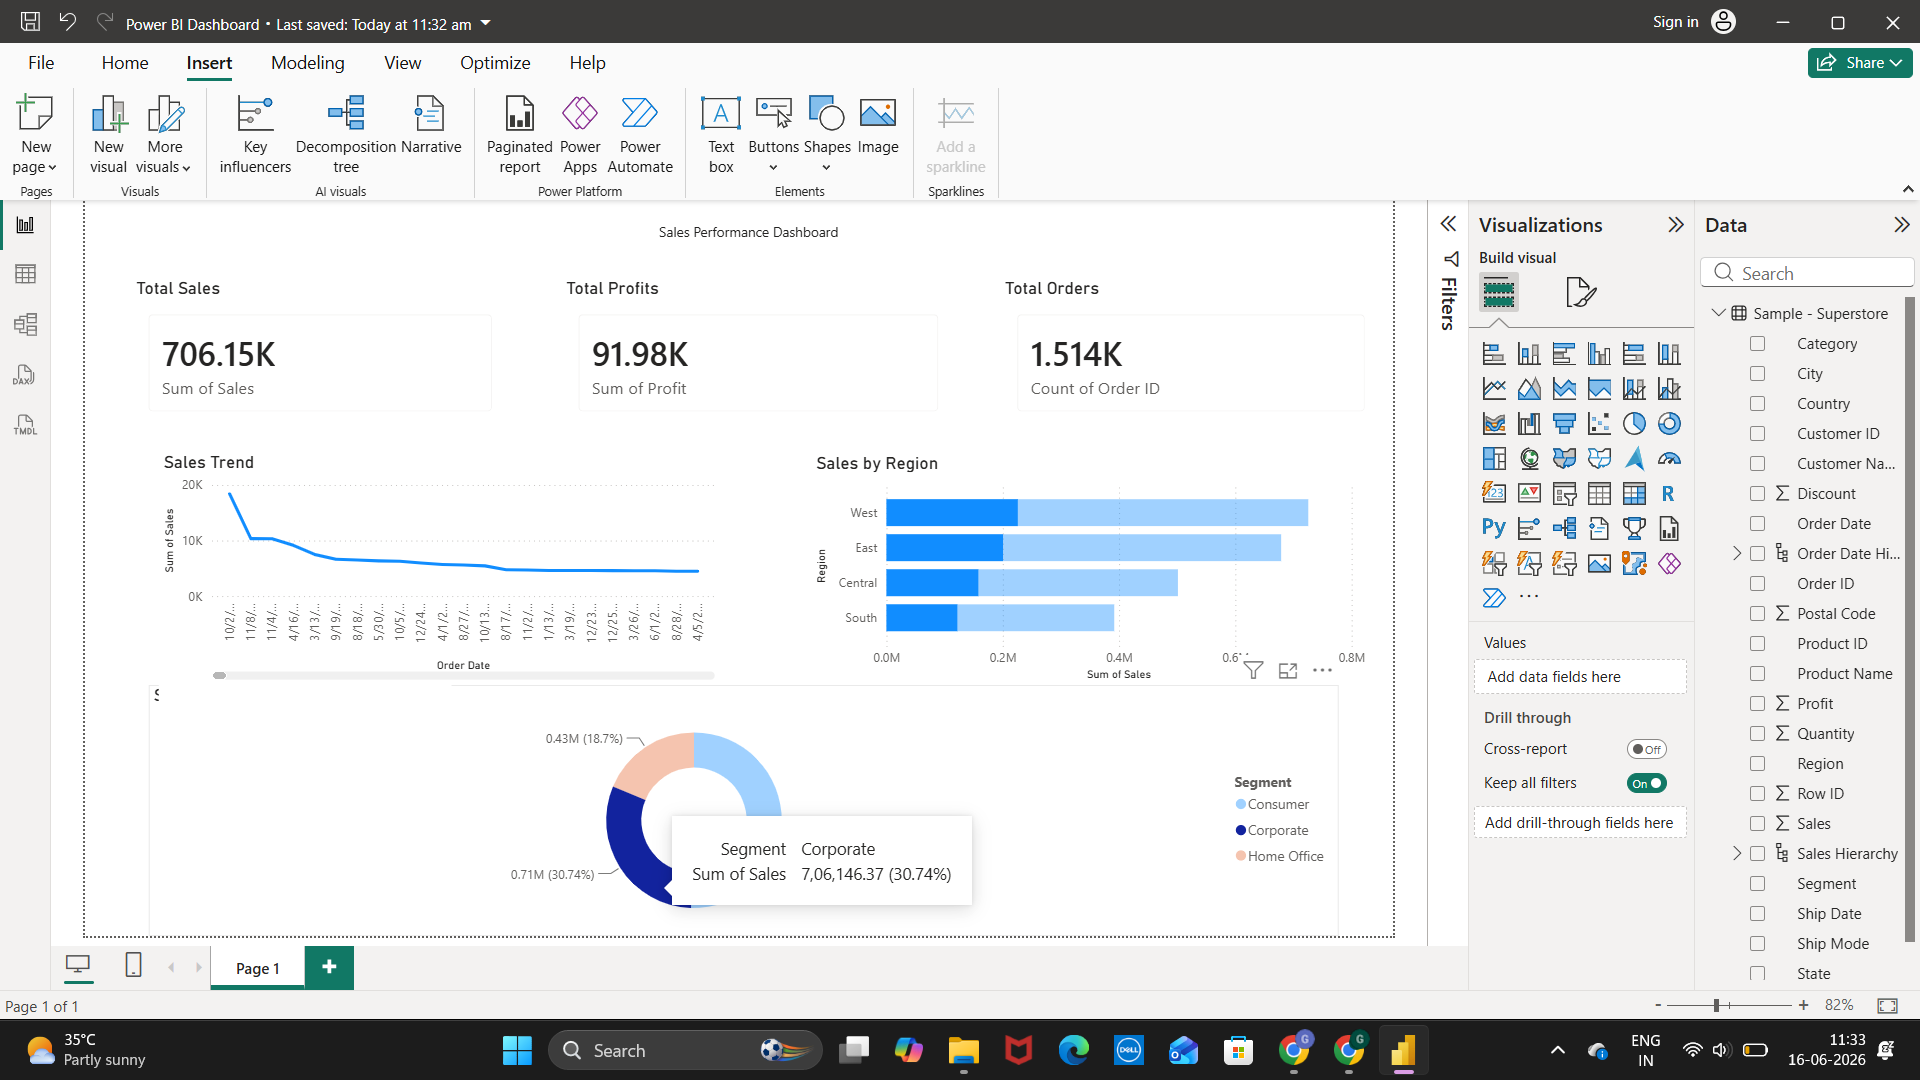

The dashboard page shown, as its layout file describes it:
{"tool":"powerbi","page":{"name":"Page 1","canvas":[1280,720],"ordinal":0},"visuals":[{"type":"cardVisual","title":"Total Sales","fields":{"Data":["Sum(Sample - Superstore.Sales)"]},"box":[45.2,75.8,370.5,149.2],"z":0},{"type":"cardVisual","title":"Total Profits","fields":{"Data":["Sum(Sample - Superstore.Profit)"]},"box":[465.9,75.8,386.4,149.2],"z":1000},{"type":"cardVisual","title":"Total Orders","fields":{"Data":["Count(Sample - Superstore.Order ID)"]},"box":[895.1,75.8,374.2,149.2],"z":2000},{"type":"lineChart","title":"Sales Trend","fields":{"Y":["Sum(Sample - Superstore.Sales)"],"Category":["Sample - Superstore.Order Date"]},"box":[72.1,245.8,549.1,228.7],"z":3000},{"type":"clusteredBarChart","title":"Sales by Region","fields":{"Category":["Sample - Superstore.Region"],"Y":["Sum(Sample - Superstore.Sales)"]},"box":[710.5,247,547.8,228.7],"z":4000},{"type":"donutChart","title":"Sales by Segment","fields":{"Category":["Sample - Superstore.Segment"],"Y":["Sum(Sample - Superstore.Sales)"]},"box":[62.4,474.5,1164.1,245.8],"z":5000},{"type":"textbox","box":[72,475,286,245],"z":5001},{"type":"textbox","box":[100.3,13.5,1098.1,33],"z":5002}]}

Visuals, with their boxes on the page's 1280x720 design canvas (x1, y1, x2, y2). These are canvas units, not pixel positions in the 1920x1080 screenshot, which may show the page scaled, cropped or inside an application window:
"Total Sales" cardVisual: (45, 76, 416, 225)
"Total Profits" cardVisual: (466, 76, 852, 225)
"Total Orders" cardVisual: (895, 76, 1269, 225)
"Sales Trend" lineChart: (72, 246, 621, 474)
"Sales by Region" clusteredBarChart: (710, 247, 1258, 476)
"Sales by Segment" donutChart: (62, 474, 1226, 720)
textbox: (72, 475, 358, 720)
textbox: (100, 14, 1198, 46)
